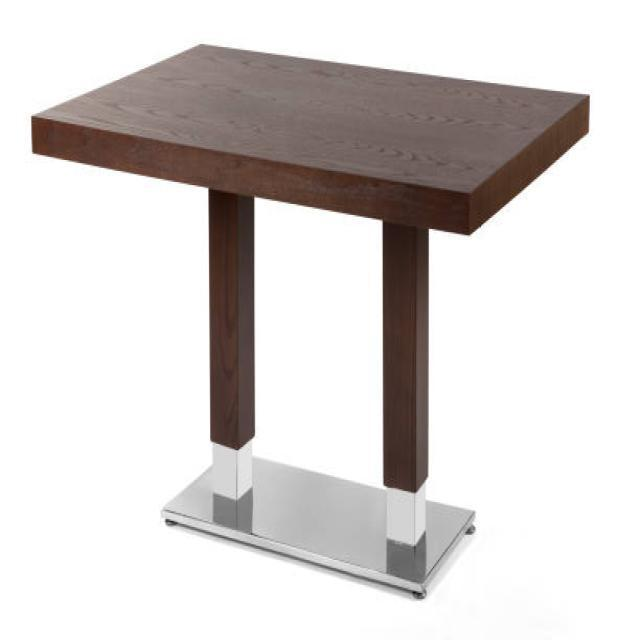table: (30, 39, 590, 599)
